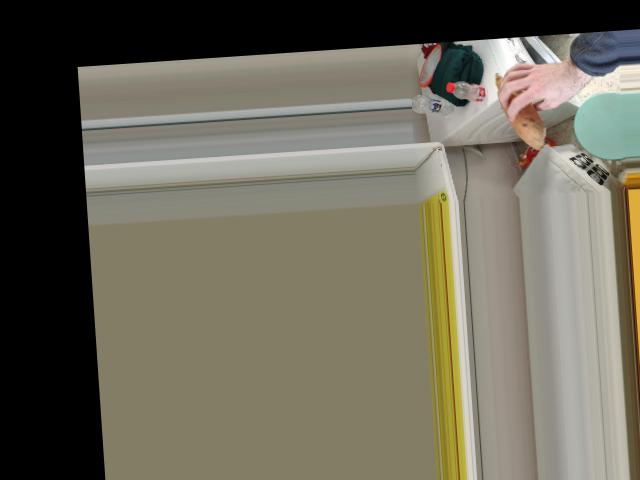sweet_potato: (494, 66, 546, 149)
